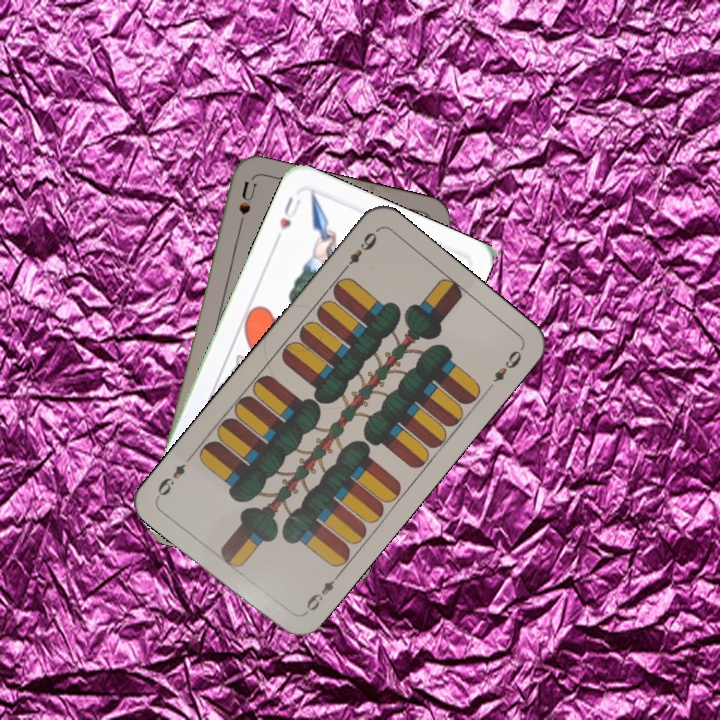E9: (298, 569, 342, 619), (337, 228, 380, 276)
HU: (275, 193, 304, 233)
SU: (233, 178, 259, 237)
